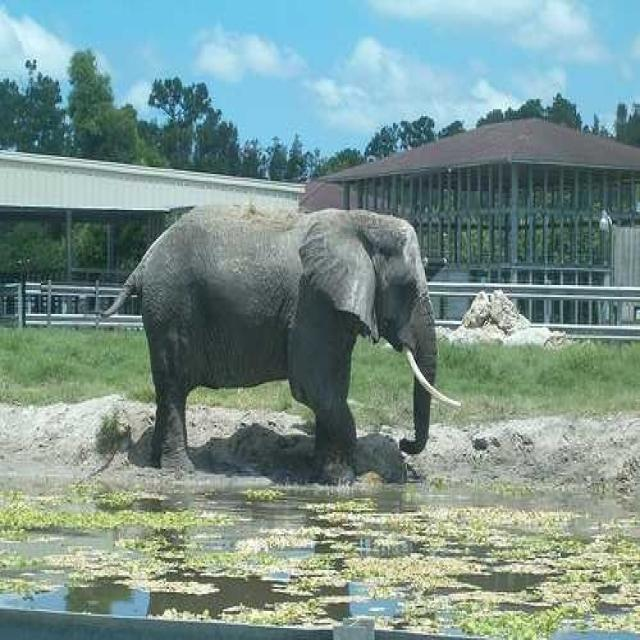Elephant: (97, 200, 461, 478)
